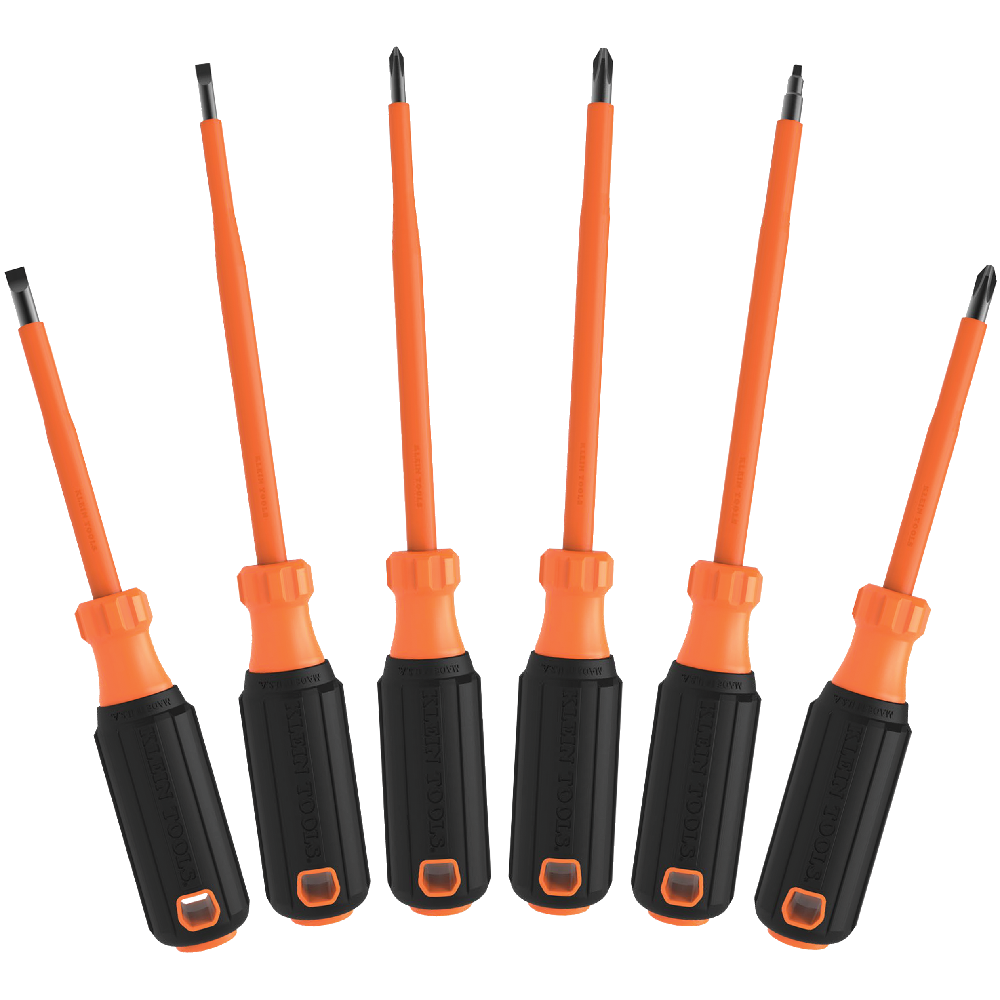screwdriver: (1, 267, 253, 954), (755, 264, 1000, 952), (190, 61, 374, 923), (629, 63, 810, 926), (373, 45, 493, 922), (508, 44, 624, 919)
